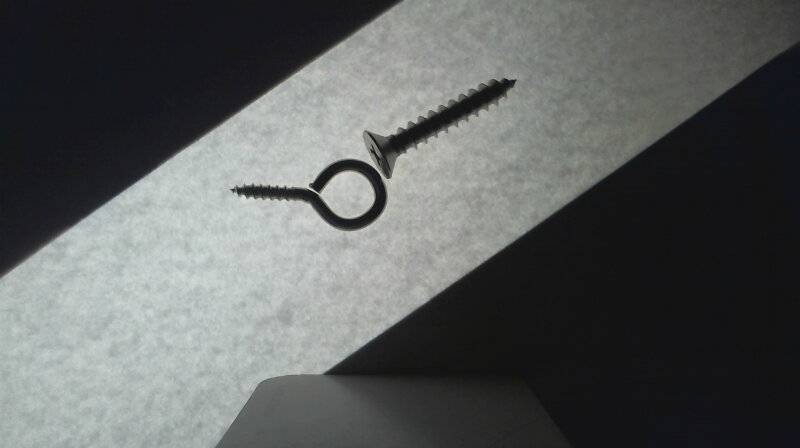O001: (227, 157, 388, 232)
S001: (361, 76, 520, 179)
